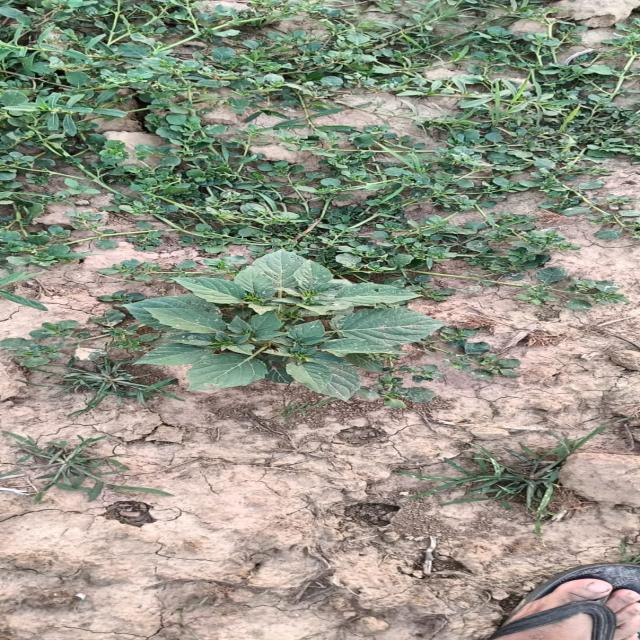plant: (124, 250, 443, 400)
